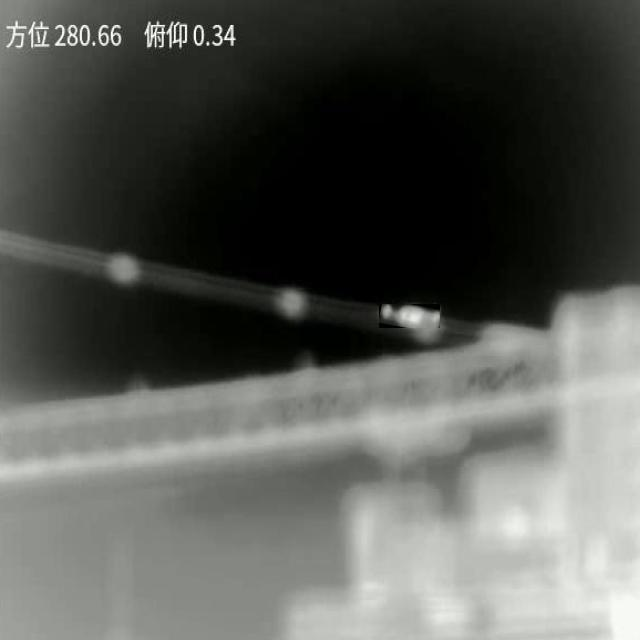drone: (380, 304, 440, 328)
